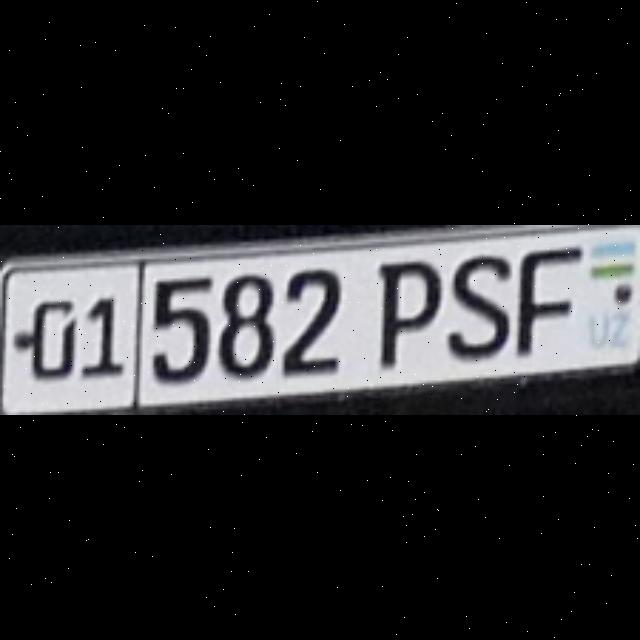0: (28, 296, 74, 374)
1: (80, 296, 120, 374)
2: (276, 264, 336, 370)
5: (150, 276, 208, 378)
8: (216, 270, 270, 370)
F: (516, 245, 580, 353)
P: (372, 260, 438, 364)
S: (444, 250, 506, 356)
